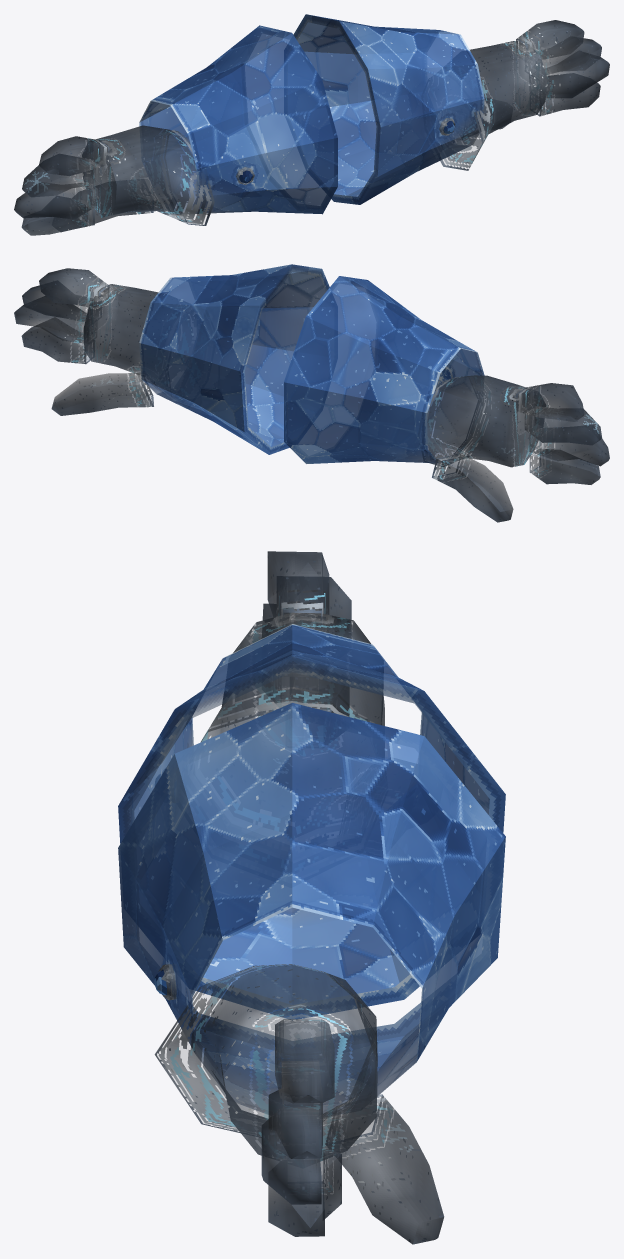
The model's file is gantelets_saphir_enchante.glb.
3 renders of one model, top to bottom at view 1: azimuth 30°, elevation 25°; view 2: azimuth 150°, elevation 25°; view 3: azimuth 270°, elevation 25°, orthographic. The views are drawn at different scales.
Visible parts, largest first — view 1: gantelets_saphir.001; view 2: gantelets_saphir.001; view 3: gantelets_saphir.001.
Part boxes in pixels (<box>): gantelets_saphir.001: <box>14,14,609,235</box>; gantelets_saphir.001: <box>14,264,609,522</box>; gantelets_saphir.001: <box>118,551,505,1244</box>.
Size of the model in its own units: 0.816 by 0.2346 by 0.2299.
Materials: 4 (4 with a texture image).
